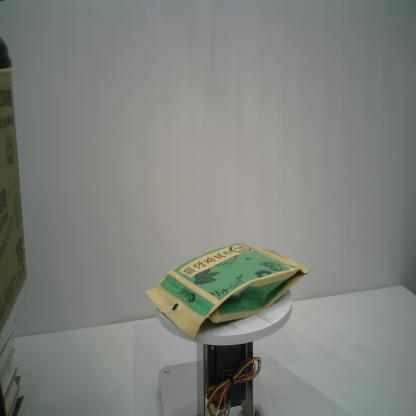Dried Food: (144, 239, 311, 344)
